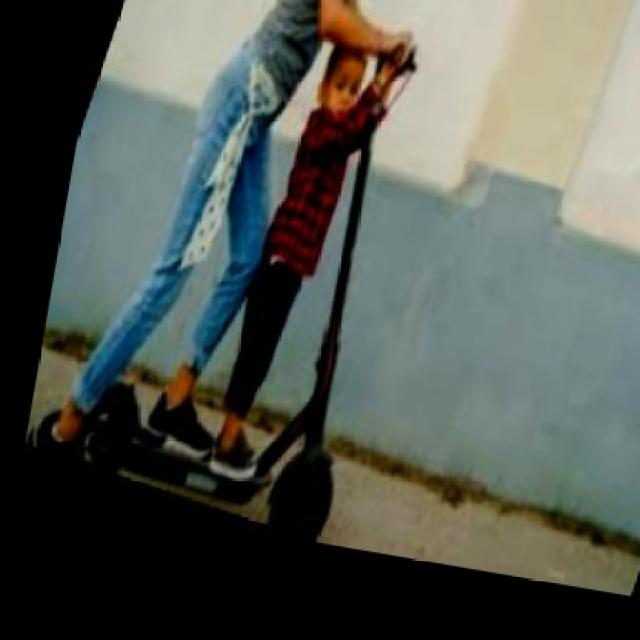bare_head: (324, 42, 378, 115)
human: (39, 0, 336, 431), (138, 50, 379, 442)
kickboard: (34, 353, 328, 546)
